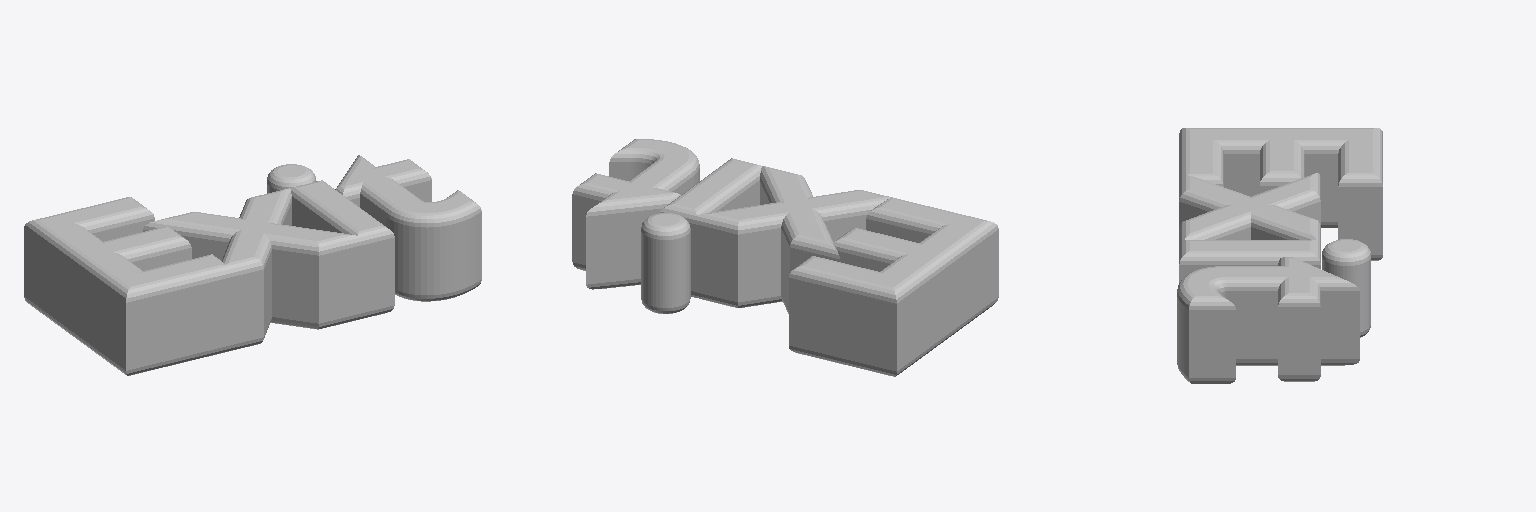
Rendered from exit_button.obj.
The picture shows the model from 3 angles: view 1: azimuth 30°, elevation 25°; view 2: azimuth 150°, elevation 25°; view 3: azimuth 270°, elevation 25°; orthographic projection.
Visible parts, largest first — view 1: Text; view 2: Text; view 3: Text.
Boxes of the visible parts, x1=… form: Text: x1=24, y1=155, x2=481, y2=375; Text: x1=572, y1=139, x2=998, y2=376; Text: x1=1177, y1=128, x2=1382, y2=383.
Bounding box in the file's own units: 1.56 × 0.36 × 0.771.